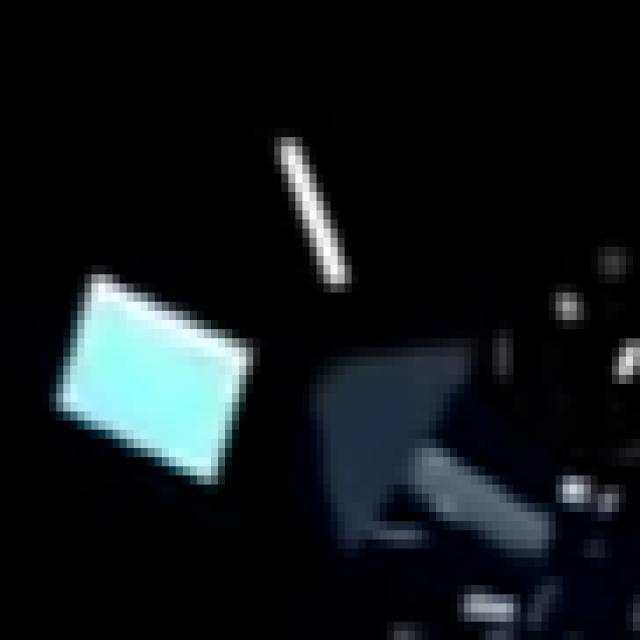medium_debris: (56, 265, 258, 482), (315, 340, 477, 530), (410, 448, 566, 556), (270, 126, 353, 290), (383, 616, 434, 640)
small_debris: (457, 592, 522, 627), (552, 468, 598, 510), (497, 327, 527, 383), (590, 490, 626, 522), (614, 341, 640, 383), (553, 291, 588, 322), (605, 250, 632, 285)
